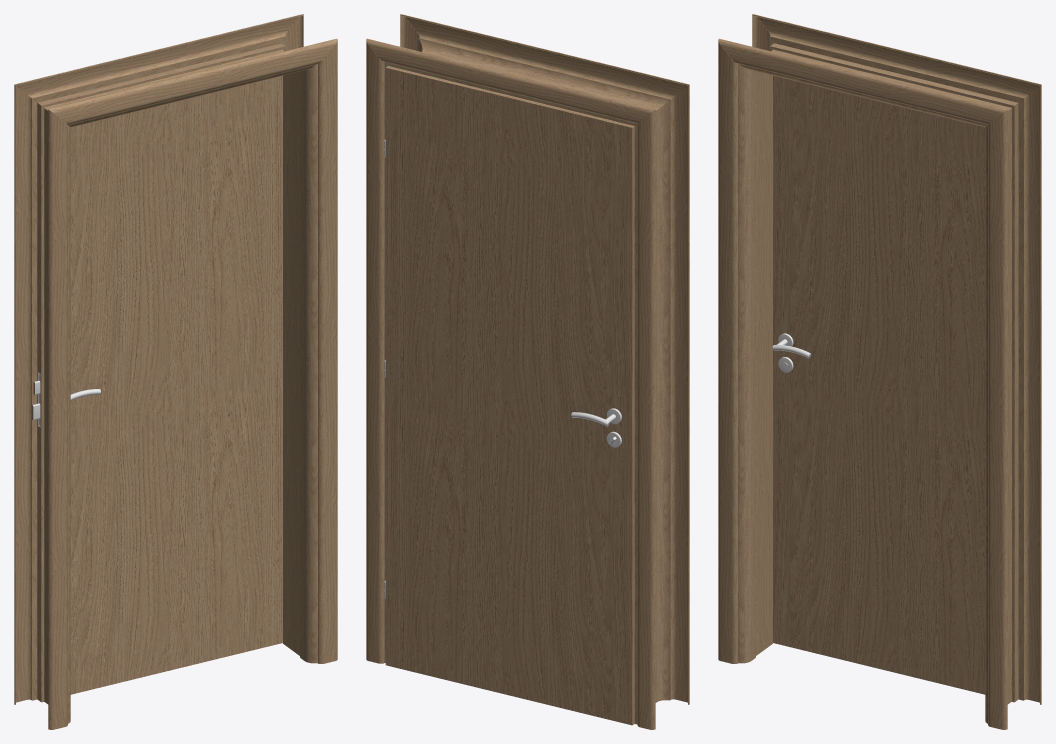
File: door.fbx
The picture shows the model from 3 angles, left to right: view 1: azimuth 30°, elevation 25°; view 2: azimuth 150°, elevation 25°; view 3: azimuth 330°, elevation 25°; orthographic projection.
Parts seen in each view (by area): view 1: door MF leaf, door MF frame; view 2: door MF leaf, door MF frame; view 3: door MF leaf, door MF frame.
Boxes of the visible parts, x1,y1,x2,y2 form: door MF leaf: [70, 75, 282, 694]; door MF frame: [14, 14, 337, 729]; door MF leaf: [384, 66, 634, 725]; door MF frame: [366, 14, 689, 729]; door MF leaf: [772, 75, 985, 694]; door MF frame: [718, 14, 1041, 729].
Size of the model in its own units: 103 by 211 by 29.96.
